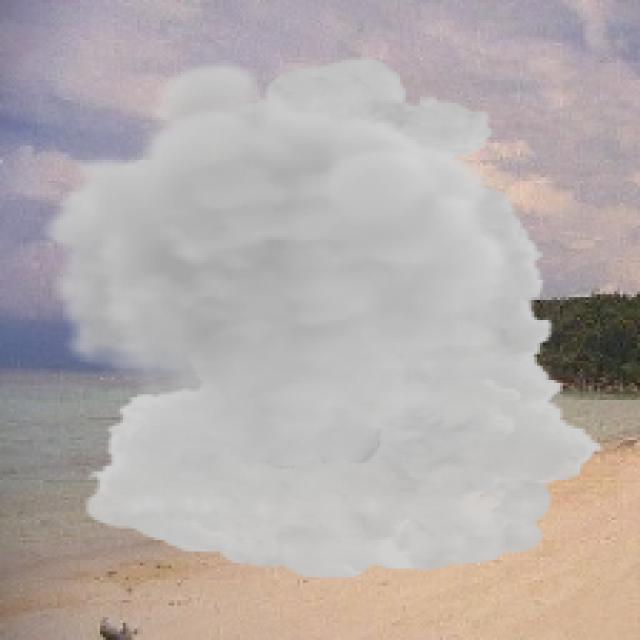Smoke: (40, 57, 606, 580)
